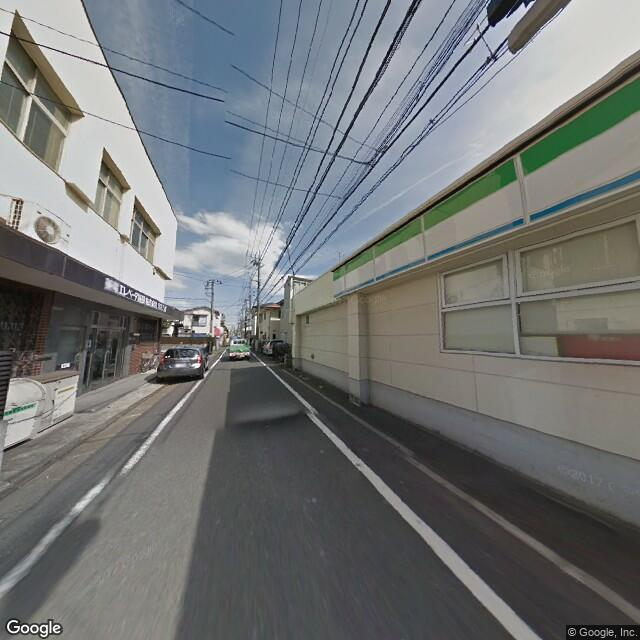family_mart: (332, 72, 638, 300)
